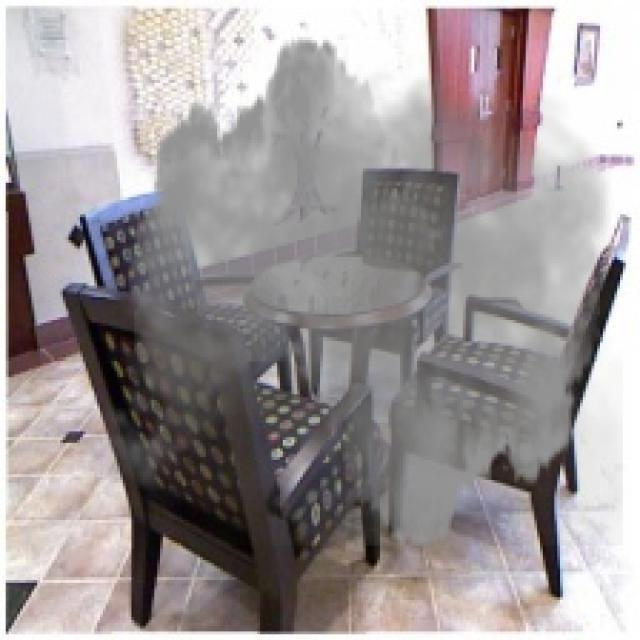Smoke: (91, 20, 623, 566)
